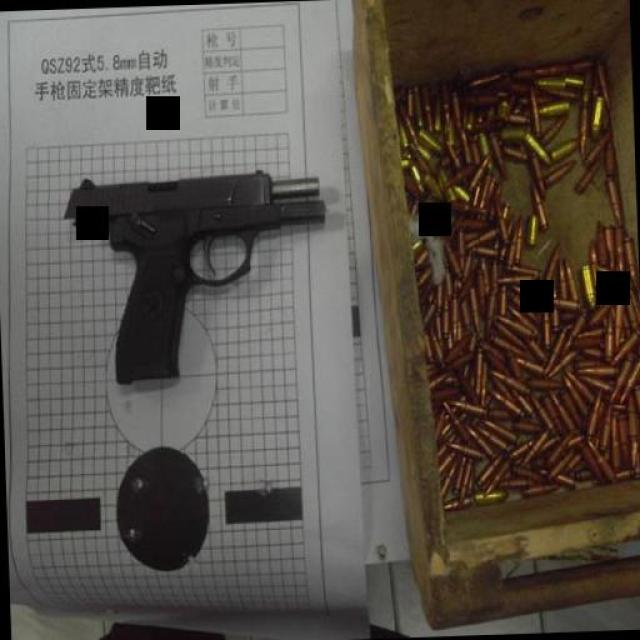gun: (59, 163, 330, 385)
